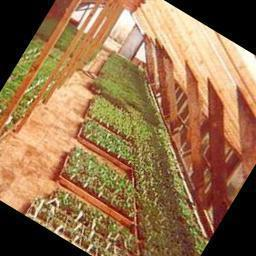Matera: (29, 182, 138, 256), (54, 150, 133, 216), (78, 121, 138, 168)
